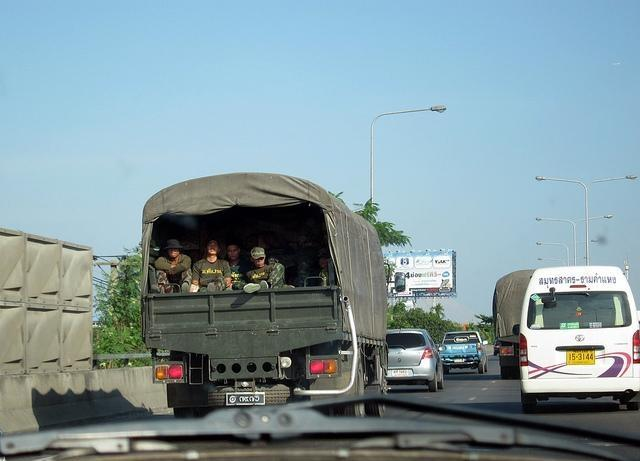car: (384, 328, 445, 392), (439, 332, 488, 374)
truck: (142, 178, 392, 426), (492, 270, 538, 378), (438, 331, 490, 375)
